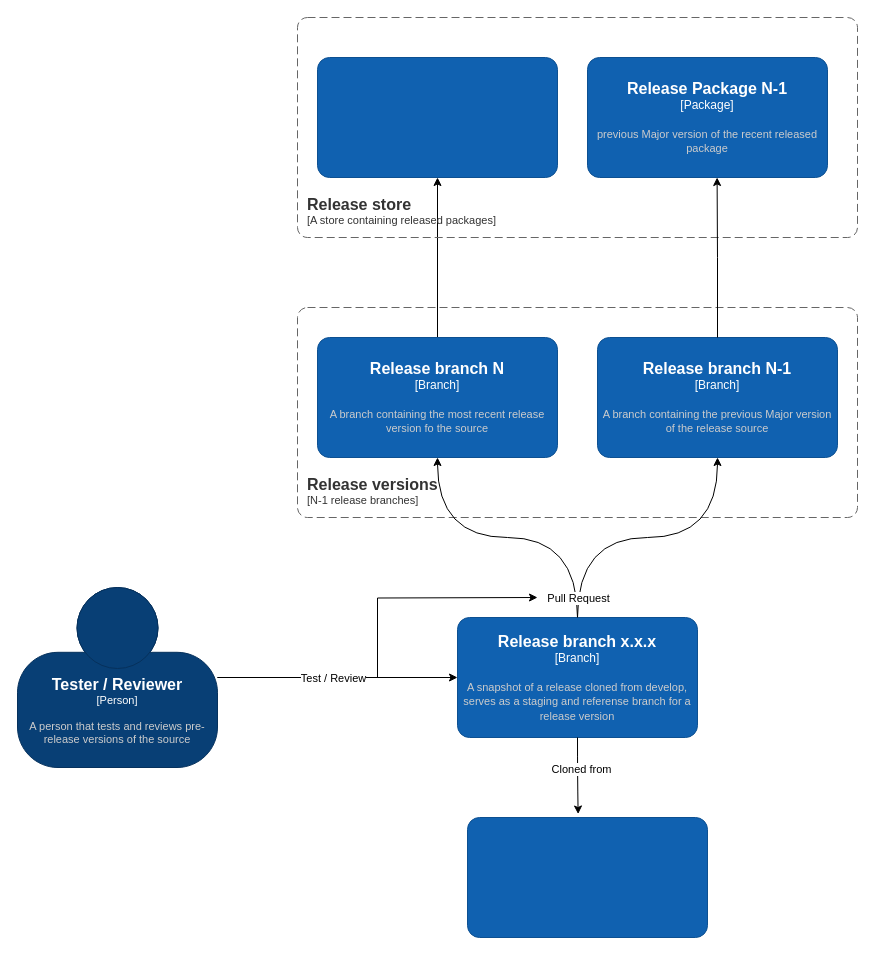
Some shapes in this 875 by 955 pixel diagram are drawn without their labels. Each missing label, with the centre of its shape:
Dev branch [Branch] Contains the most recent querated version of the source: (587,877)
Release Package N [Package] Most recent released package: (437,117)
